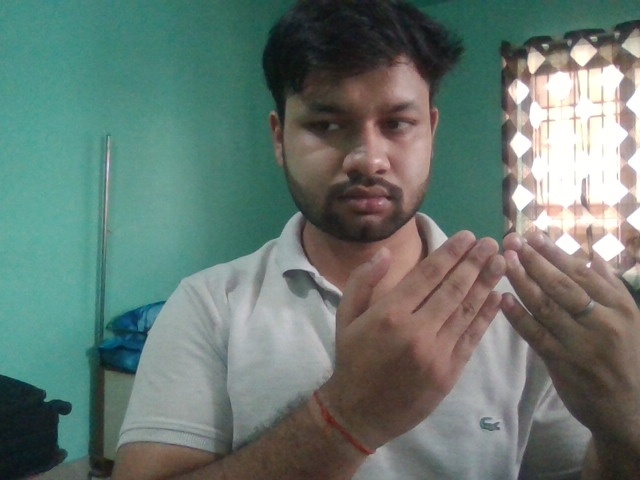Thank You: (321, 227, 640, 441)
